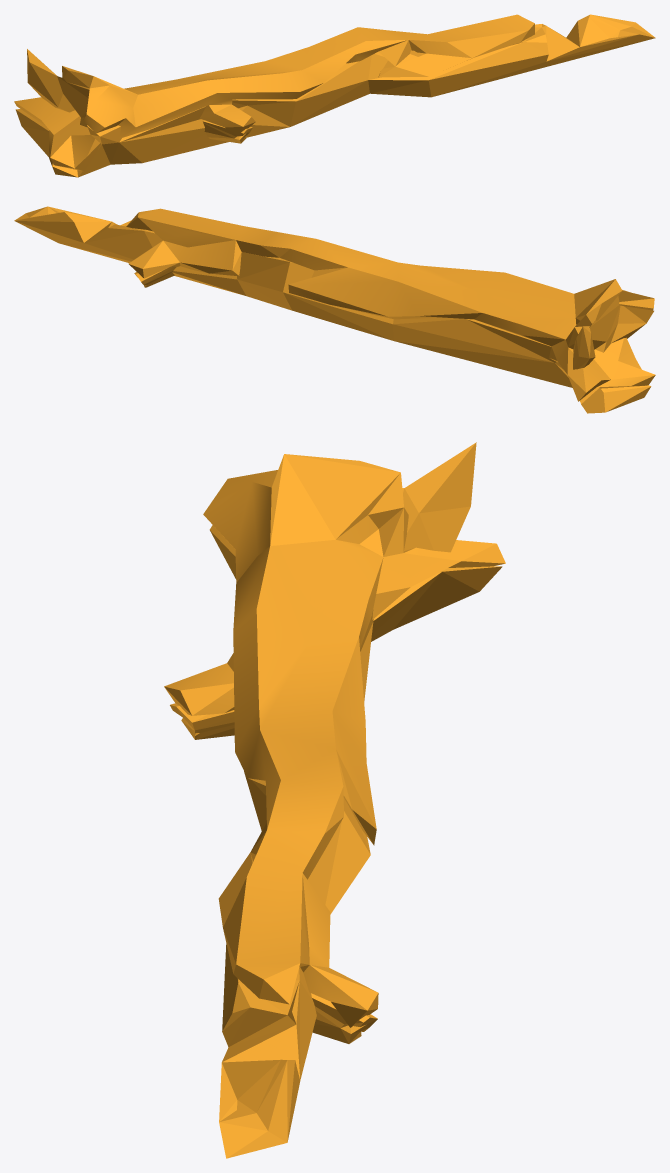
The model's file is SM_Tree_Oak_Fallen_A_Snow.fbx.
3 renders of one model, top to bottom at view 1: azimuth 30°, elevation 25°; view 2: azimuth 150°, elevation 25°; view 3: azimuth 270°, elevation 25°, orthographic. The views are drawn at different scales.
Visible parts, largest first — view 1: tree-oak-fallen-a-snow; view 2: tree-oak-fallen-a-snow; view 3: tree-oak-fallen-a-snow.
Boxes of the visible parts, box(x1,y1,x2,y2) form: tree-oak-fallen-a-snow: box(14, 14, 655, 177); tree-oak-fallen-a-snow: box(14, 206, 655, 413); tree-oak-fallen-a-snow: box(164, 442, 505, 1158).
Size of the model in its own units: 6.28 by 0.9889 by 1.58.
